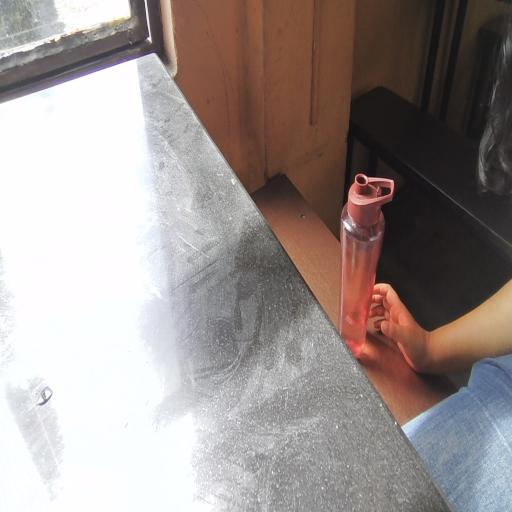Bottle: (344, 151, 385, 361)
